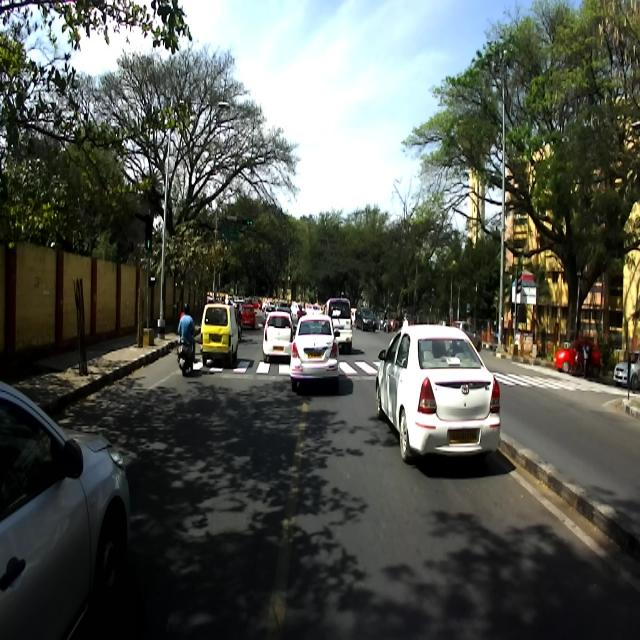Car: (0, 379, 132, 639)
Car_Mahindra: (321, 298, 353, 351)
Car_Maruti-Suzuki: (288, 311, 340, 388), (200, 301, 240, 364)
Car_TATA: (261, 308, 293, 358)
Car_Toyota: (374, 319, 499, 466)
scooter: (176, 309, 196, 376)
